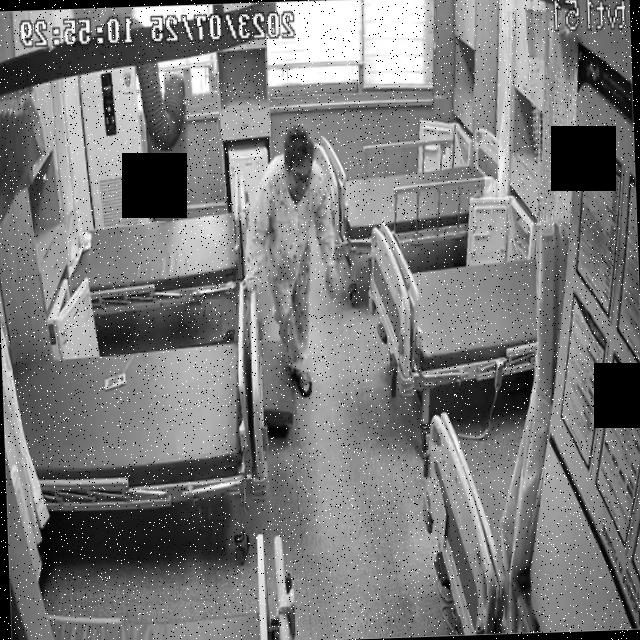bed: (9, 329, 250, 512), (362, 215, 540, 398), (313, 128, 502, 255), (66, 186, 251, 313)
danger: (235, 120, 344, 398)
patient: (236, 122, 344, 398)
